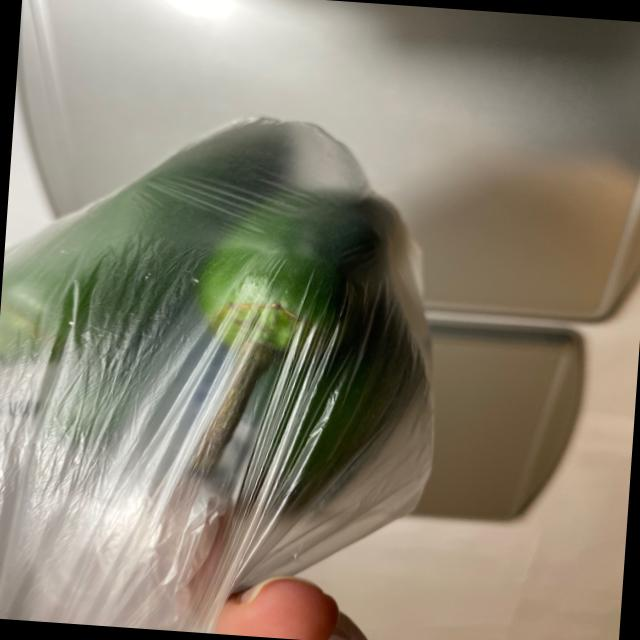chilli: (0, 80, 451, 559)
